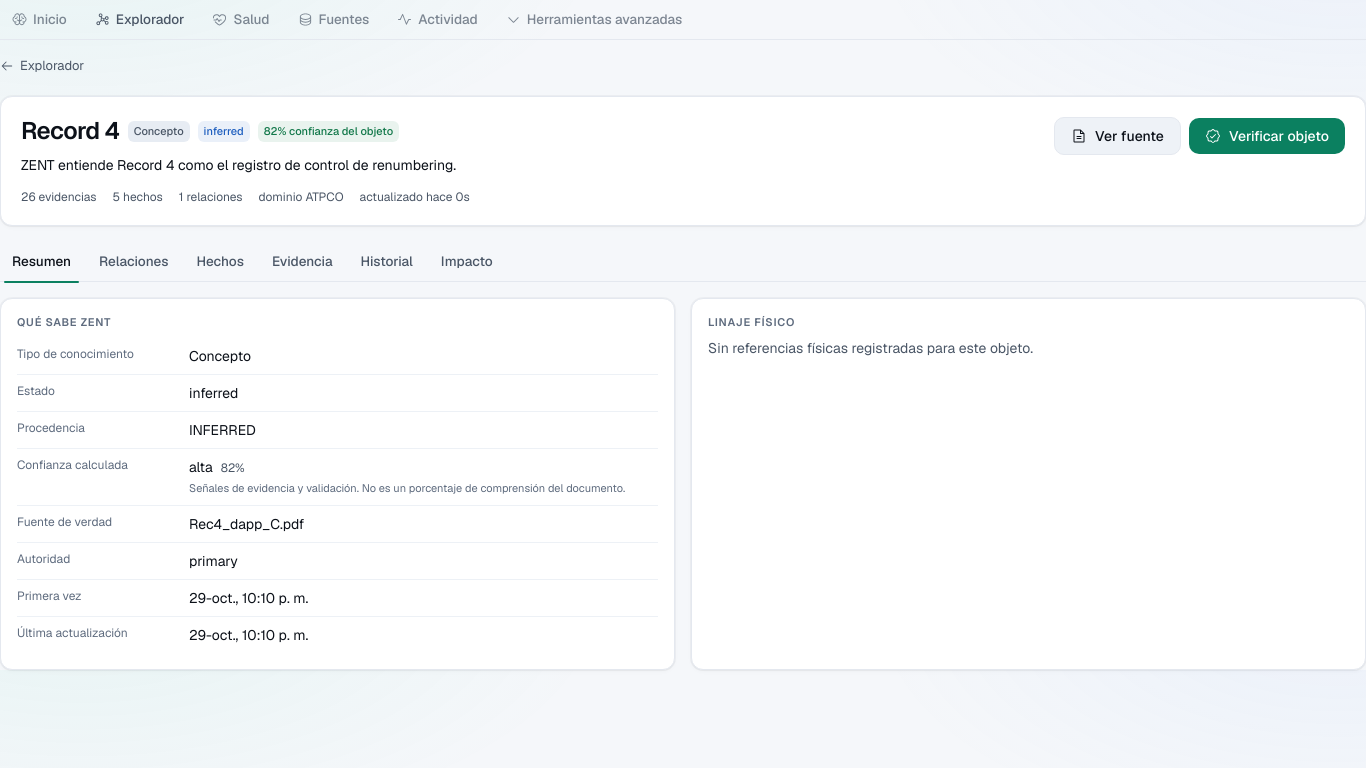
it: KnowledgeObjectPage › muestra el objeto con sus relaciones, hechos y evidencia
Expected: the heading "Record 4" is shown, [21,117,120,146]
Expected: the text "ZENT entiende Record 4" is shown, [21,156,456,174]
Click the tab "Relaciones" at (134, 262), box [87,242,180,282]
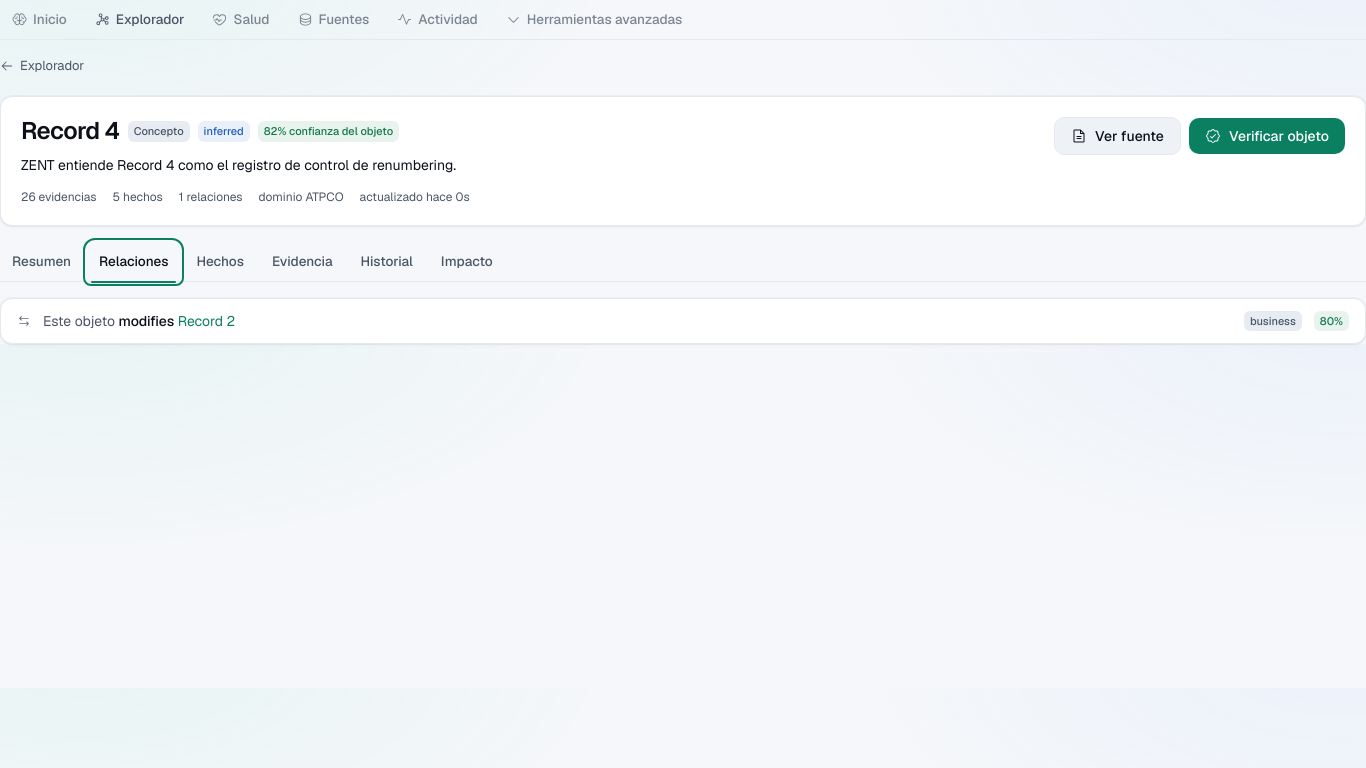
Expected: the text "modifies" is shown, [118,312,174,330]
Click the tab "Hechos" at (220, 262), box [184,242,256,282]
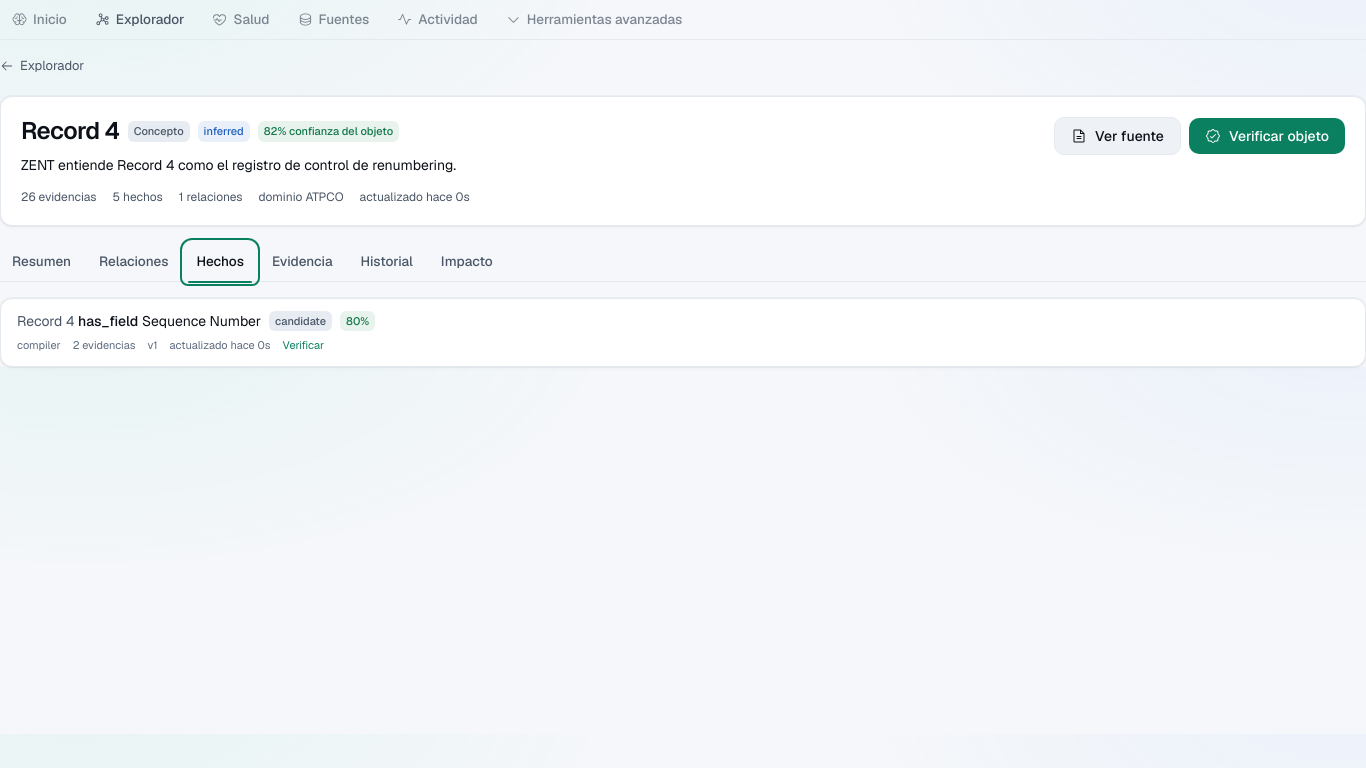
Expected: the text "Sequence Number" is shown, [142,312,261,330]
Click the tab "Evidencia" at (302, 262), box [260,242,344,282]
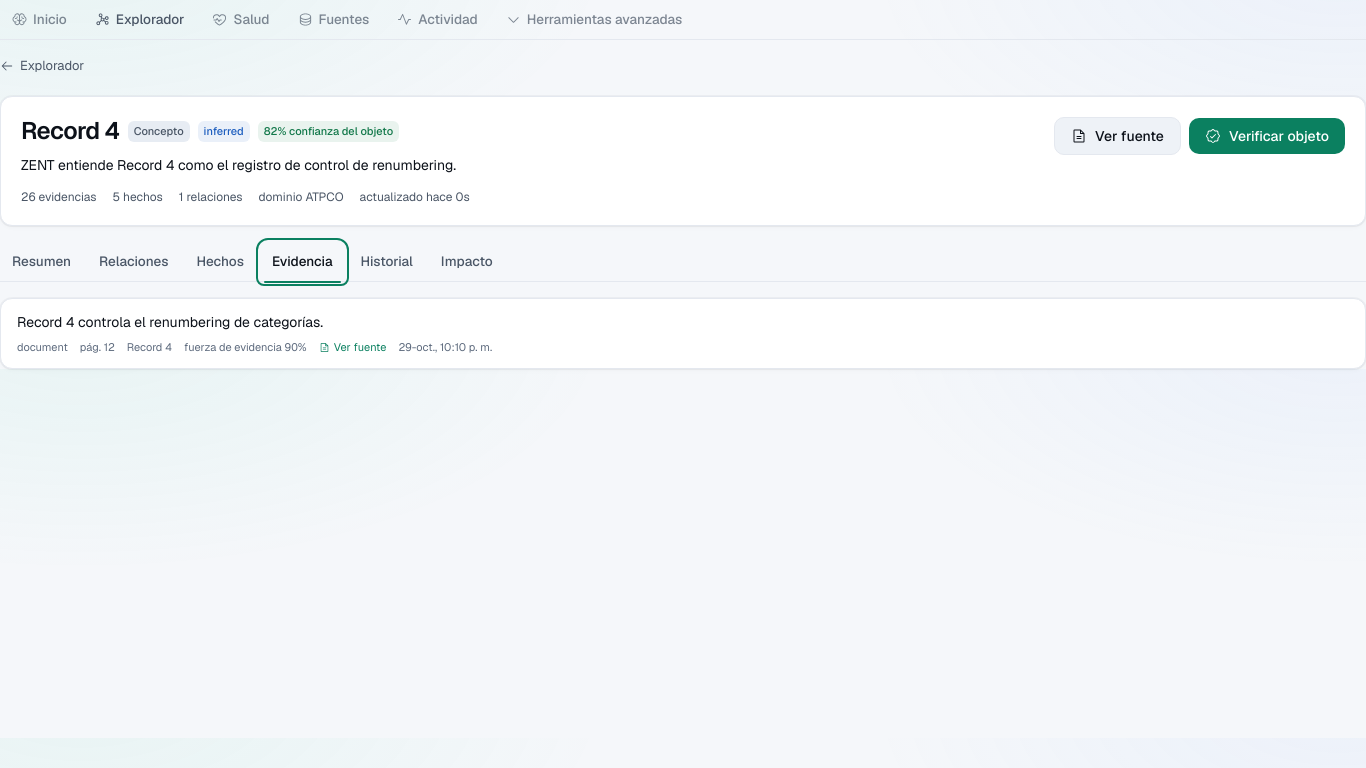
Expected: the text "Record 4 controla el renumbering de categorías." is shown, [17,312,323,330]
